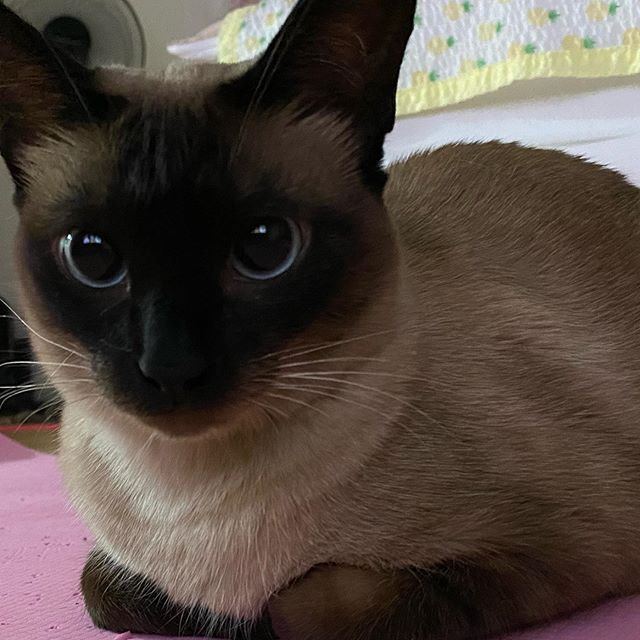cat: (1, 7, 436, 470)
